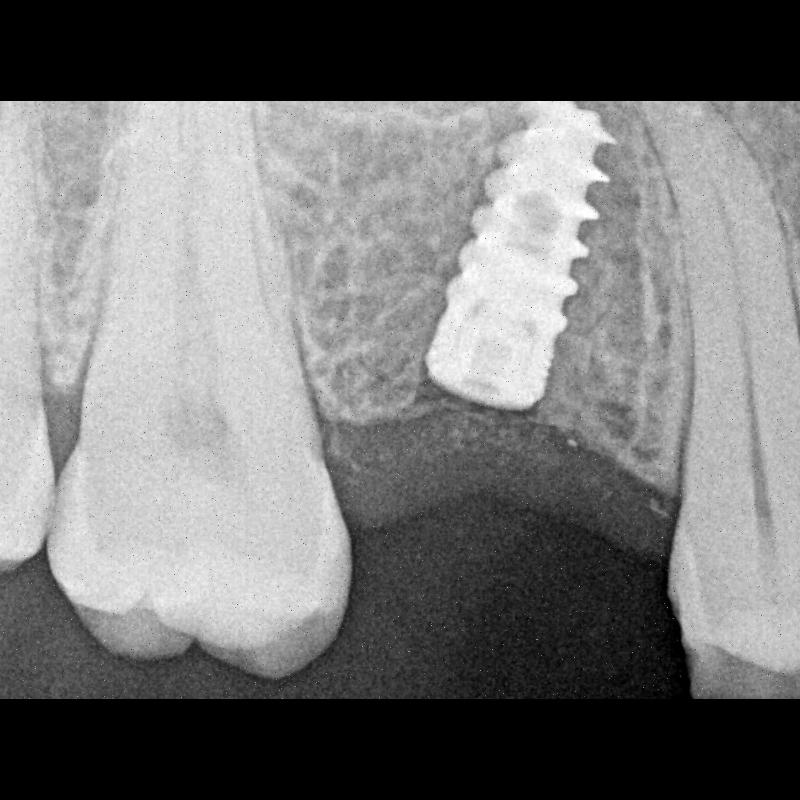NORIS: (426, 102, 616, 424)
